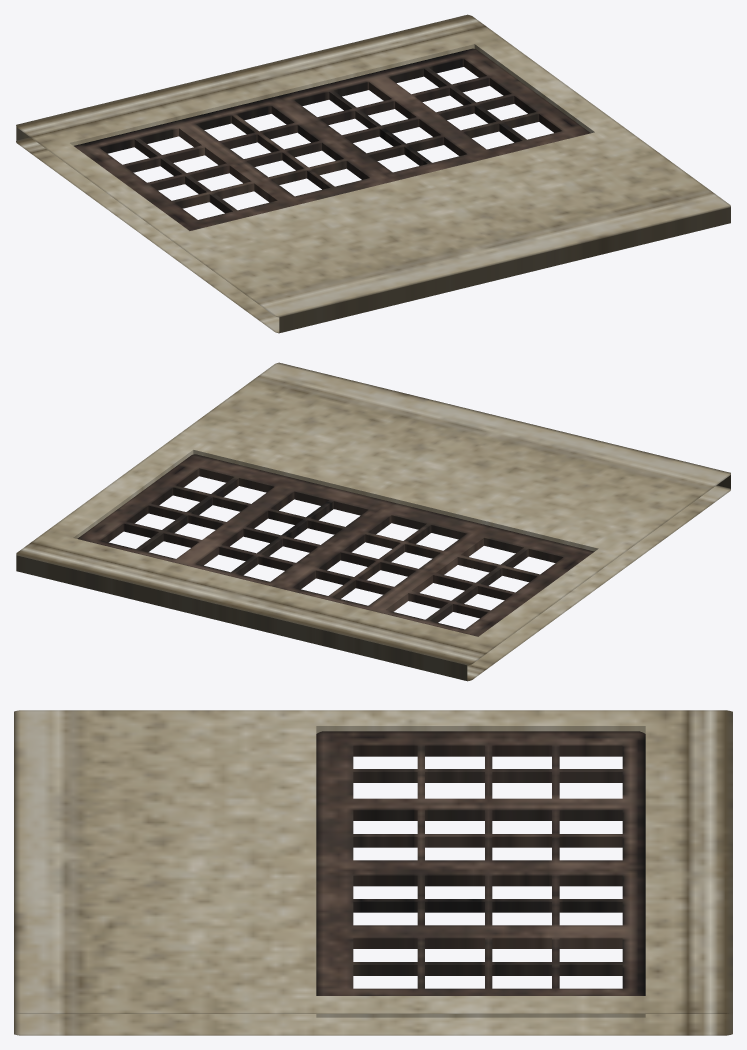
File: SM_EC_House_Wall_Window_0_3x3_0.fbx
The picture shows the model from 3 angles, top to bottom: view 1: azimuth 30°, elevation 25°; view 2: azimuth 150°, elevation 25°; view 3: azimuth 270°, elevation 25°; orthographic projection. The views are drawn at different scales.
Visible parts, largest first — view 1: SM_EC_House_Wall_Window_0_3x3_0; view 2: SM_EC_House_Wall_Window_0_3x3_0; view 3: SM_EC_House_Wall_Window_0_3x3_0.
Boxes of the visible parts, box(x1,y1,x2,y2) form: SM_EC_House_Wall_Window_0_3x3_0: box(16, 14, 730, 333); SM_EC_House_Wall_Window_0_3x3_0: box(16, 362, 730, 681); SM_EC_House_Wall_Window_0_3x3_0: box(14, 710, 732, 1035).
Size of the model in its own units: 3 by 3 by 0.1.
